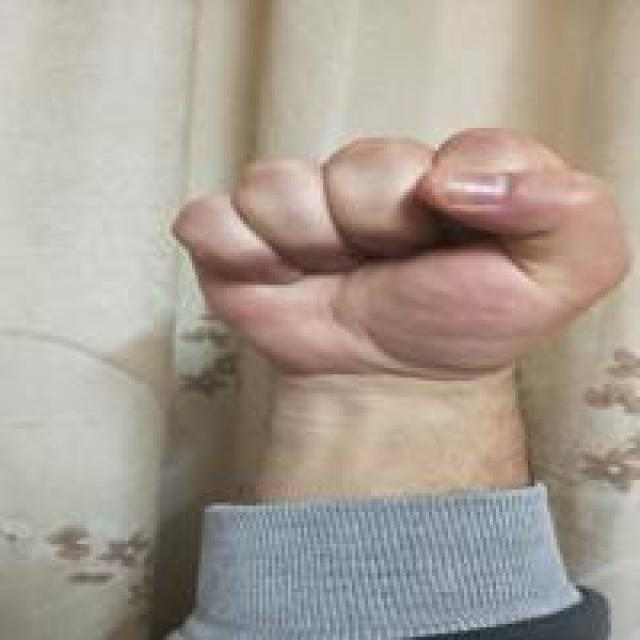S: (173, 119, 637, 378)
